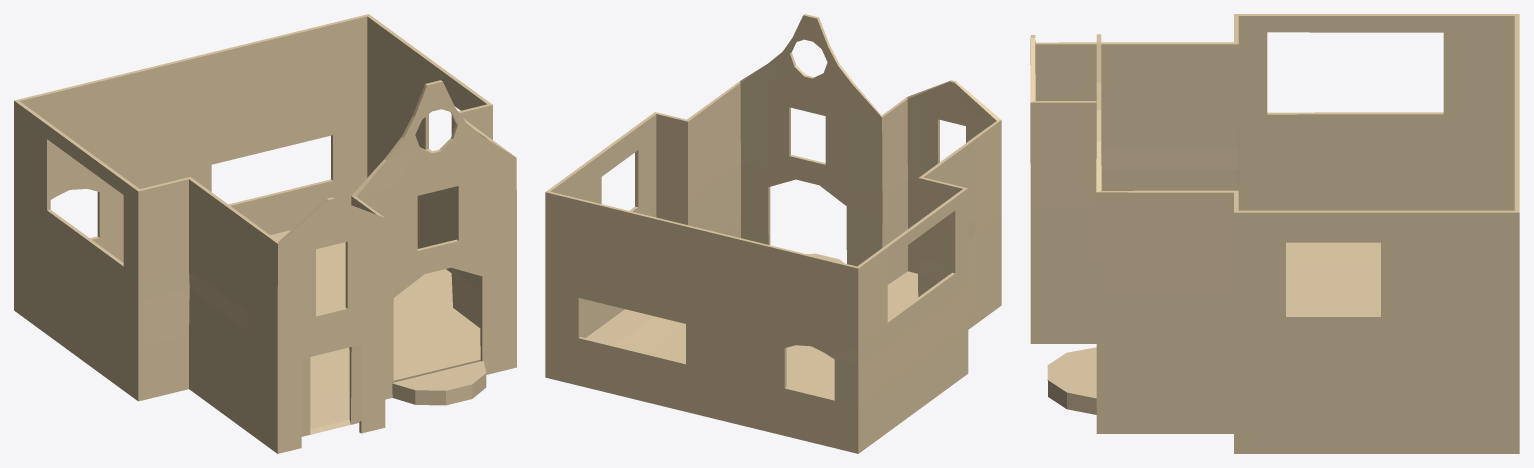
Rendered from fachada.fbx.
3 views of the same model, side by side, from view 1: azimuth 30°, elevation 25°; view 2: azimuth 150°, elevation 25°; view 3: azimuth 270°, elevation 25° (orthographic). The views are drawn at different scales.
Visible parts, largest first — view 1: Paredes; view 2: Paredes; view 3: Paredes.
Part boxes in pixels (x1=…): Paredes: x1=14, y1=14, x2=516, y2=453; Paredes: x1=545, y1=14, x2=1001, y2=453; Paredes: x1=1030, y1=14, x2=1519, y2=453.
Size of the model in its own units: 19965 by 16347 by 20767.
